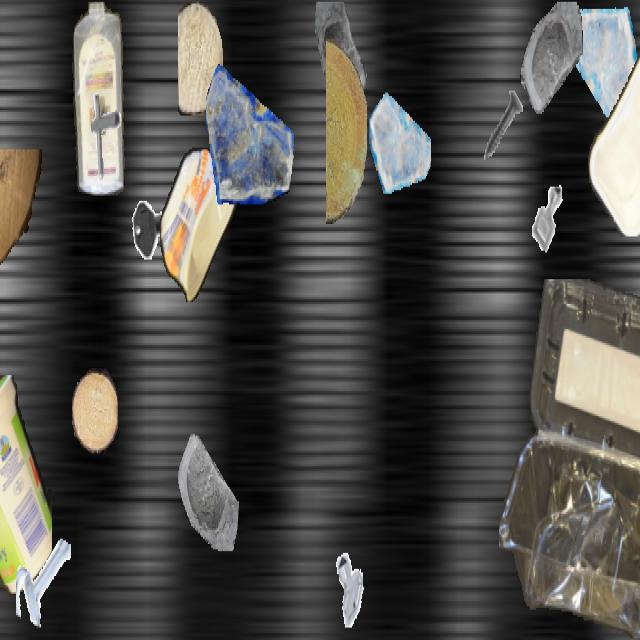glass: (206, 52, 294, 208), (165, 418, 239, 549), (567, 2, 639, 130), (311, 1, 375, 116), (369, 84, 431, 194), (520, 2, 582, 112), (611, 426, 640, 562)
metal: (16, 530, 70, 626), (76, 87, 130, 183), (477, 80, 531, 176), (522, 172, 574, 265), (330, 548, 374, 626), (130, 190, 172, 265)
plastic: (499, 279, 640, 638), (160, 147, 238, 300), (0, 375, 52, 596), (70, 2, 128, 194), (587, 38, 640, 236)
wood: (326, 39, 366, 224), (0, 150, 43, 292), (178, 1, 222, 116), (72, 368, 118, 453)
